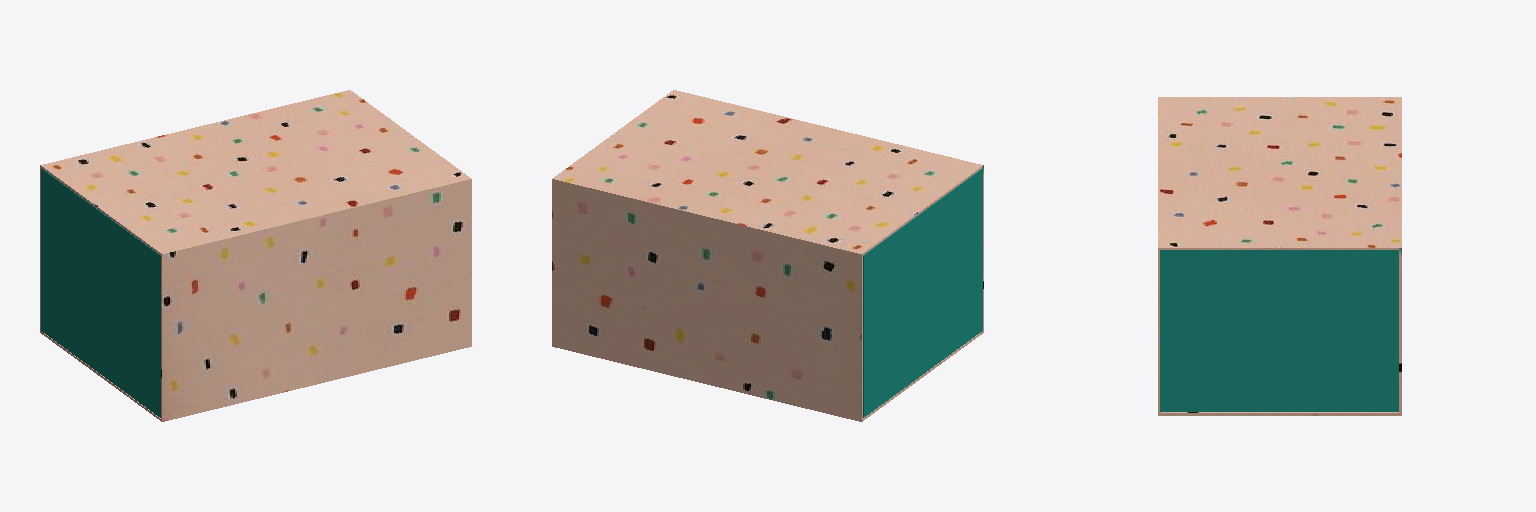
3 views of the same model, side by side, from view 1: azimuth 30°, elevation 25°; view 2: azimuth 150°, elevation 25°; view 3: azimuth 270°, elevation 25° (orthographic).
Visible parts, largest first — view 1: MIN#26_Mesh_38, MAXI#1_Mesh_35; view 2: MIN#26_Mesh_38, MAXI#1_Mesh_35; view 3: MIN#26_Mesh_38, MAXI#1_Mesh_35.
Part boxes in pixels (left/top/right/bottom): MIN#26_Mesh_38: left=40, top=90, right=471, bottom=421; MAXI#1_Mesh_35: left=41, top=169, right=160, bottom=417; MIN#26_Mesh_38: left=552, top=90, right=983, bottom=421; MAXI#1_Mesh_35: left=863, top=168, right=982, bottom=417; MIN#26_Mesh_38: left=1158, top=97, right=1401, bottom=415; MAXI#1_Mesh_35: left=1160, top=250, right=1398, bottom=411.
Size of the model in its own units: 0.3 by 0.155 by 0.204.
2 materials, 1 textured.